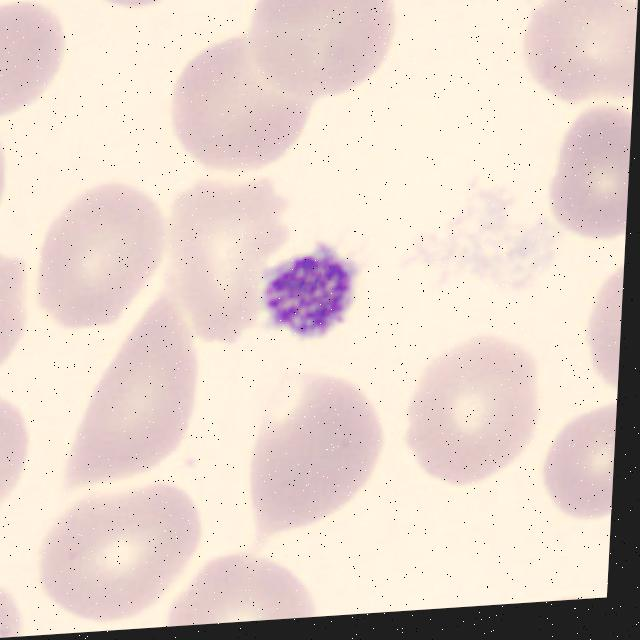platelets: (241, 227, 371, 349)
rbc: (43, 279, 217, 492), (225, 363, 393, 545), (31, 465, 208, 625), (395, 326, 549, 500), (160, 21, 323, 179), (28, 167, 174, 330), (157, 177, 293, 342), (236, 0, 411, 107), (159, 541, 326, 627), (533, 103, 632, 246), (513, 0, 640, 106), (522, 396, 617, 530), (0, 0, 80, 119), (572, 250, 625, 394), (0, 380, 36, 534), (0, 237, 36, 373), (0, 112, 24, 232), (0, 555, 29, 640), (77, 0, 197, 13)
